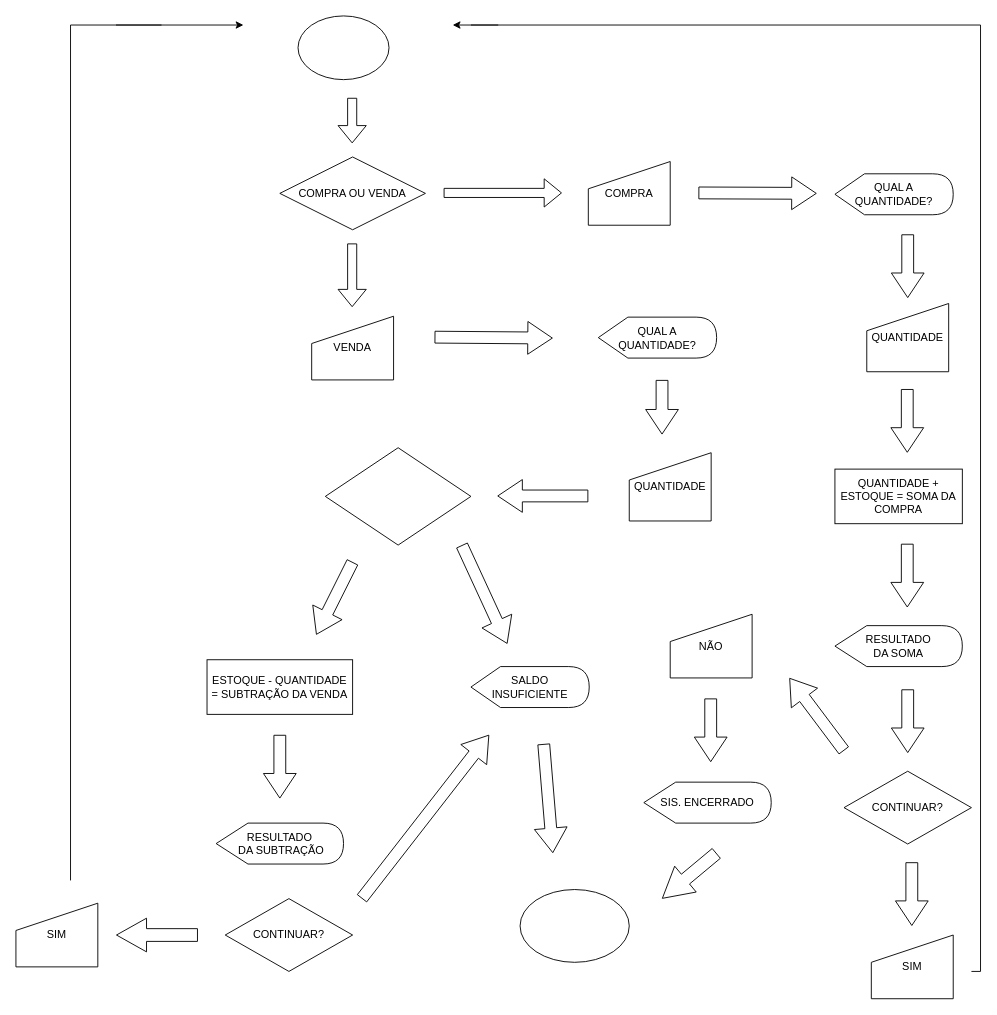
The diagram is 997 pixels wide and 1015 high, and some of its shapes have lost their labels. The shapes that lost their labels are listed below. From the top down, each one's box as (x1, y1, x2, y2) in pixels, then its label:
(297, 15, 389, 80): INÍCIO
(324, 447, 471, 545): QUANTIDADE É MAIOR QUE ESTOQUE?
(519, 889, 629, 962): FIM
